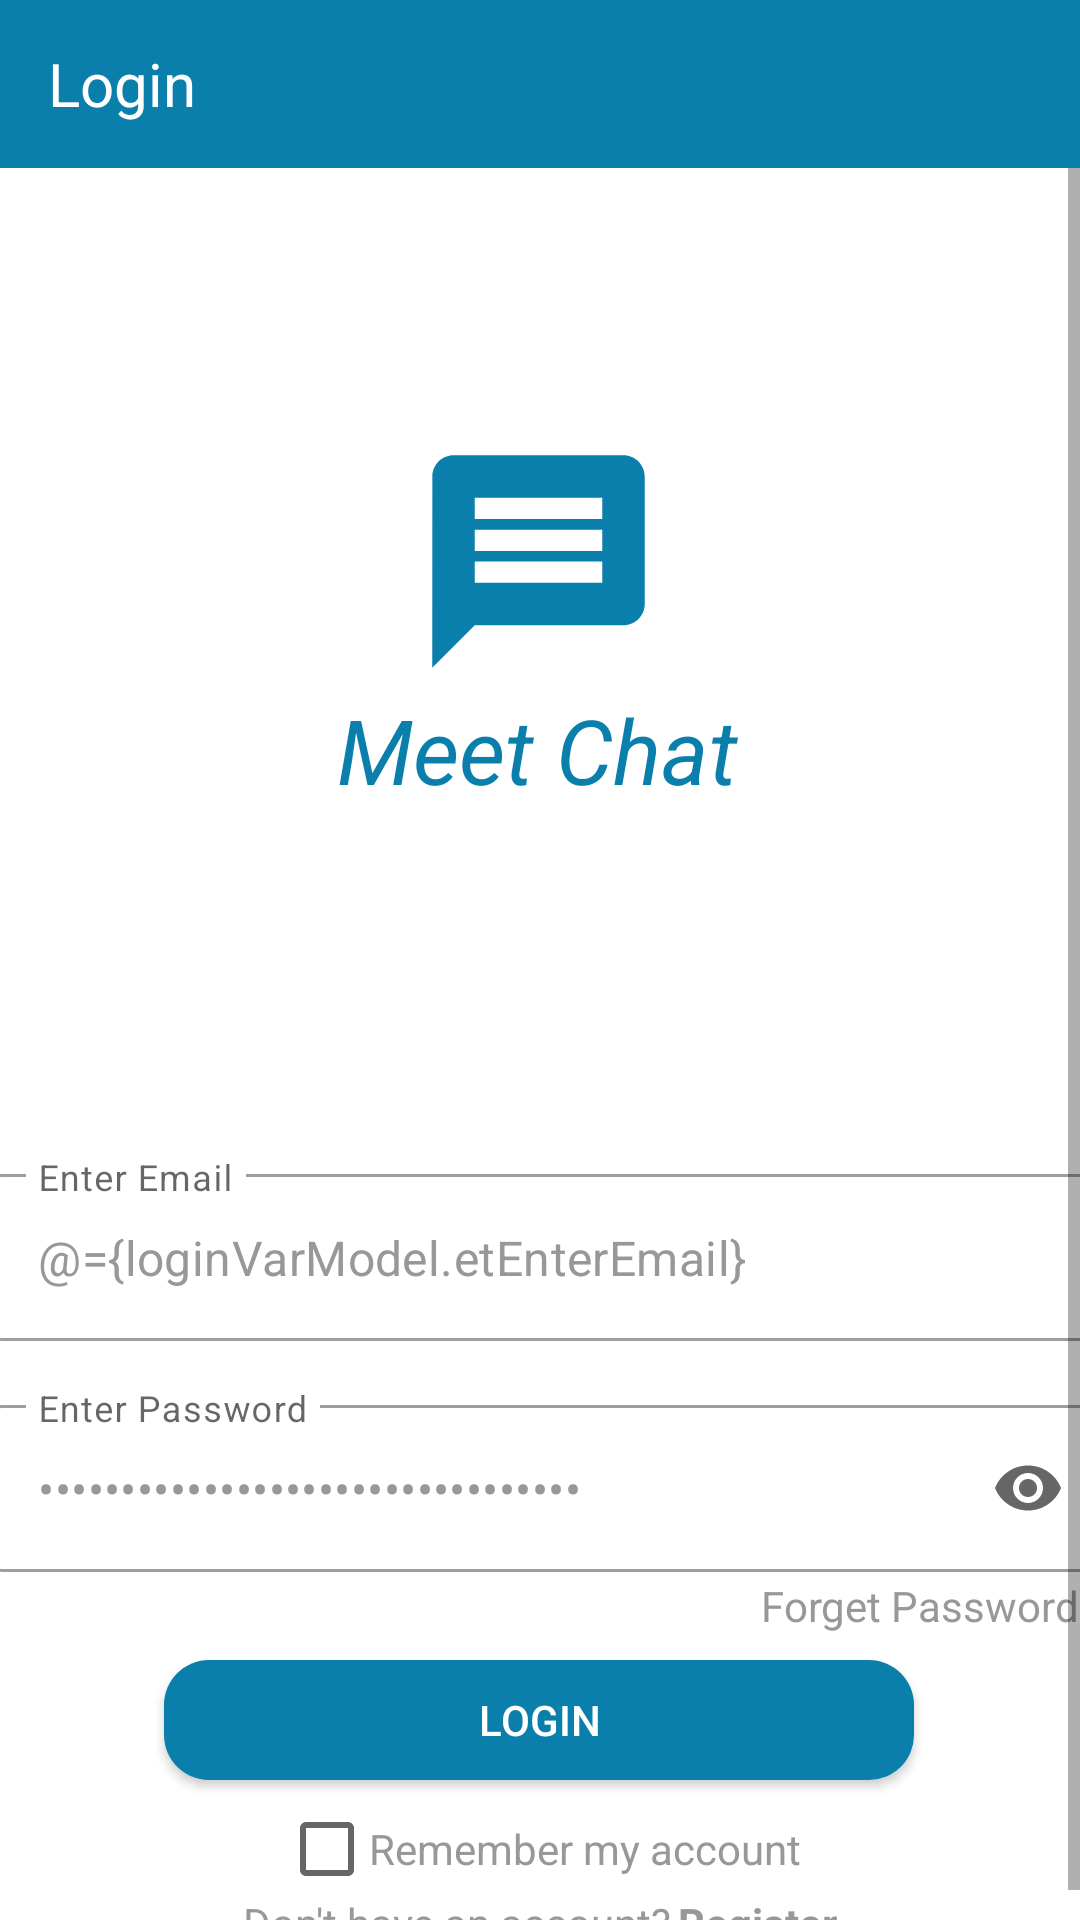

Named icons in this screenshot (1080px×1920px) and their bounding boxes, (x1, y1, x2, y2):
message register: (432, 455, 645, 668)
